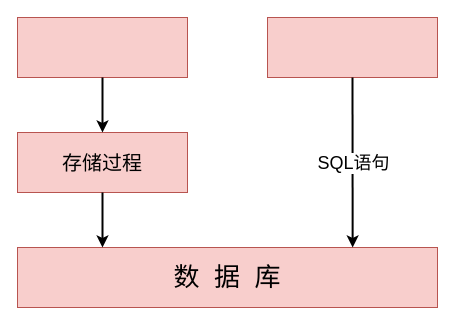
Some shapes in this 455 by 325 pixel diagram are drawn without their labels. The centre of each missing label's shape, as x and y in pixels:
核心业务: the point at 352,47
衍生业务: the point at 102,47
